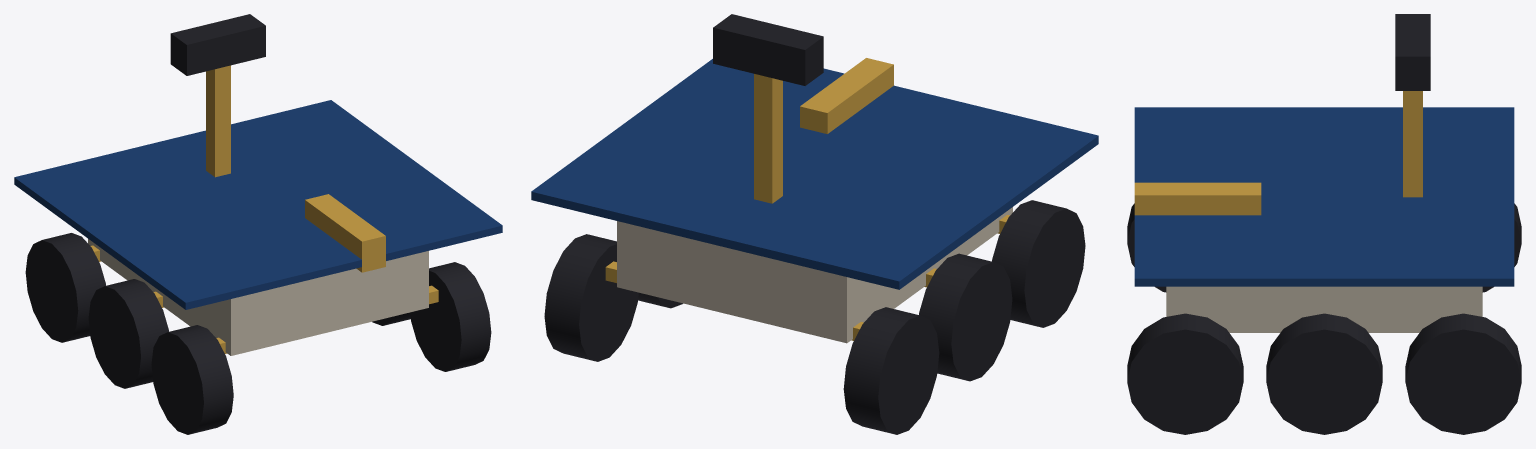
The model's file is opportunity.glb.
The picture shows the model from 3 angles, left to right: view 1: azimuth 30°, elevation 25°; view 2: azimuth 150°, elevation 25°; view 3: azimuth 270°, elevation 25°; orthographic projection. The views are drawn at different scales.
Size of the model in its own units: 1.6 by 1.41 by 1.56.
